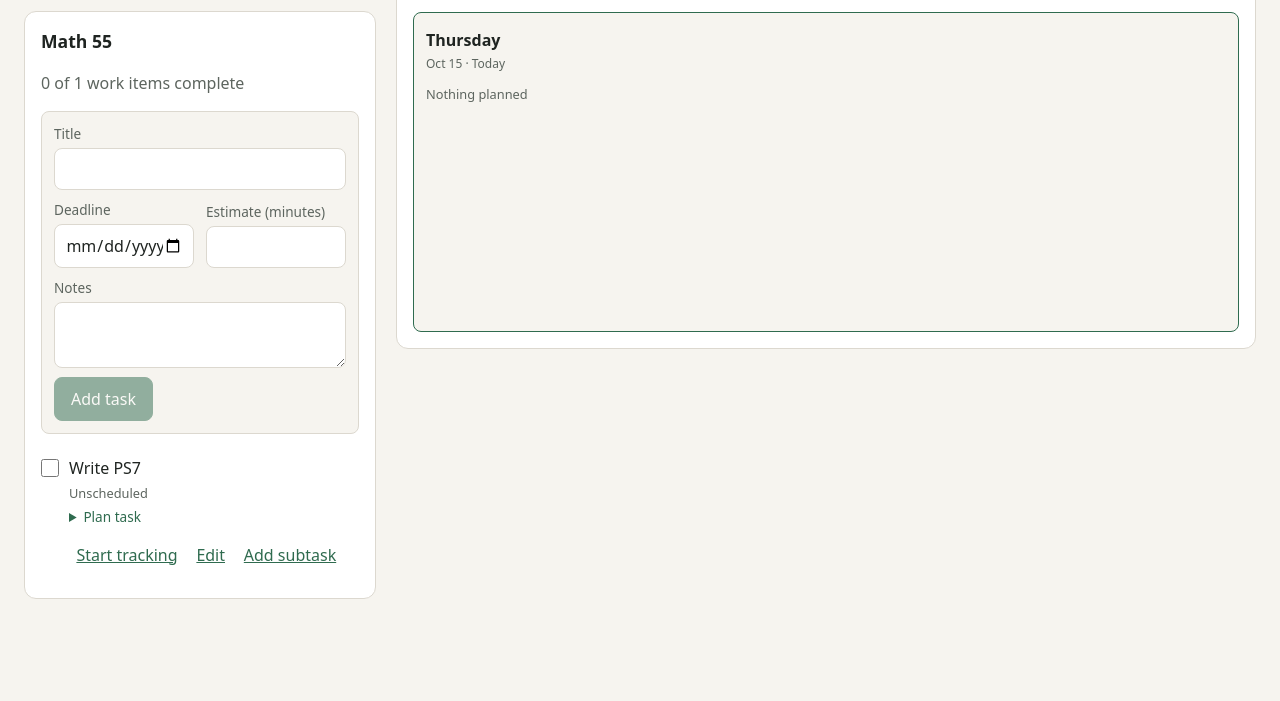
Scenario: a mutation resolving after a project switch does not show the old project's tasks
(page scrolled)
Expected: the text "Write PS7" is shown, [69,457,141,479]
Click the checkbox labelled "Write PS7": (50, 468) [41,459,59,477]
(page scrolled)
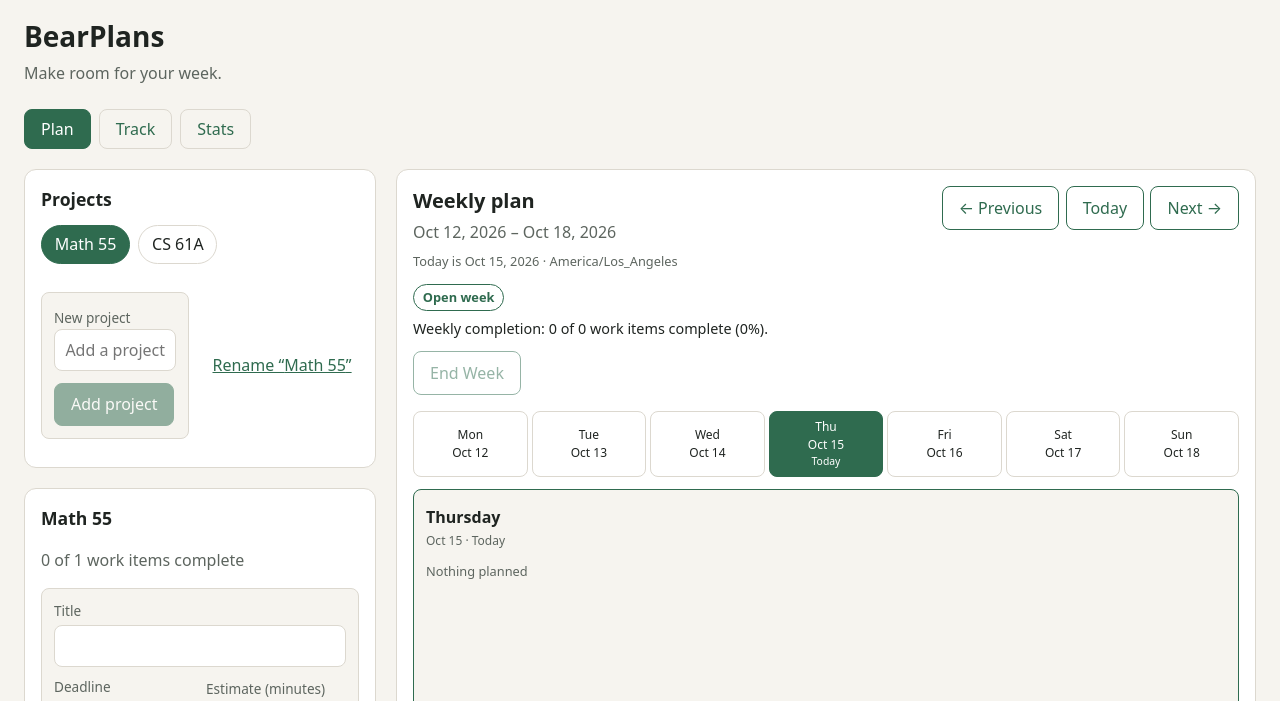
Click the button "CS 61A": (178, 244) [138,225,217,264]
(page scrolled)
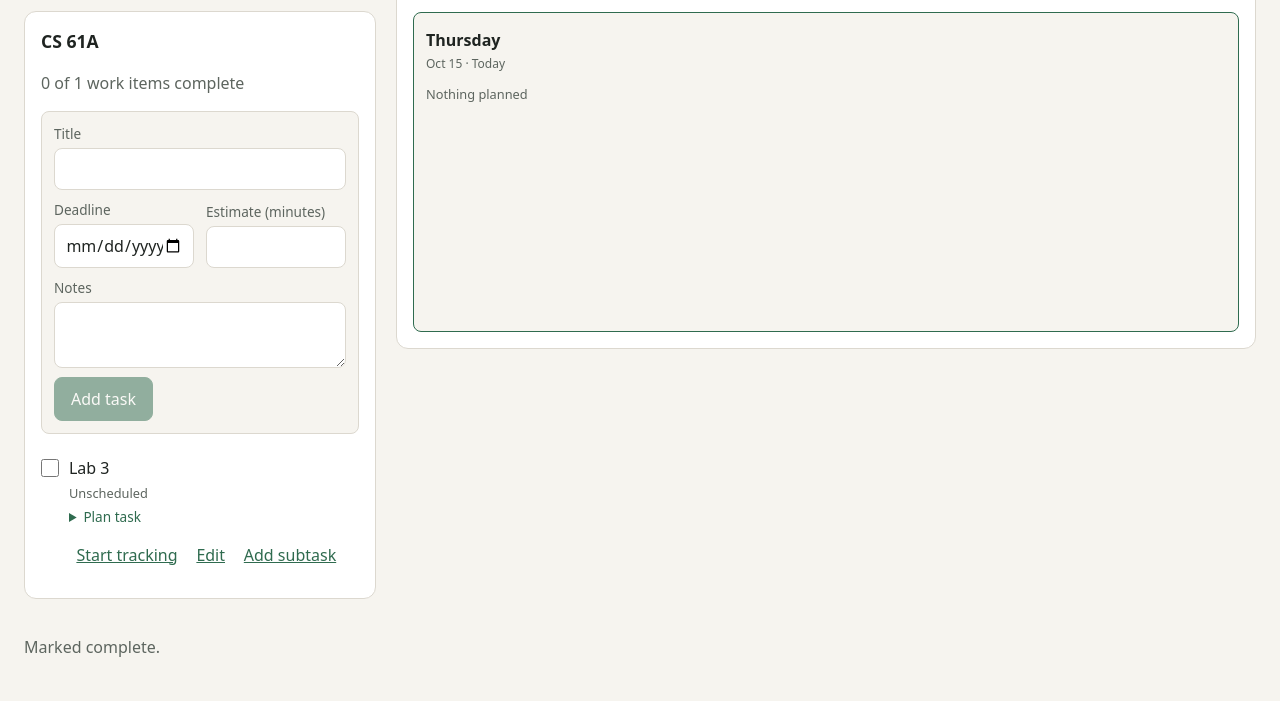
Result: the heading "CS 61A" is shown at [41,29,99,53]
Result: the text "Lab 3" is shown at [69,457,110,479]
